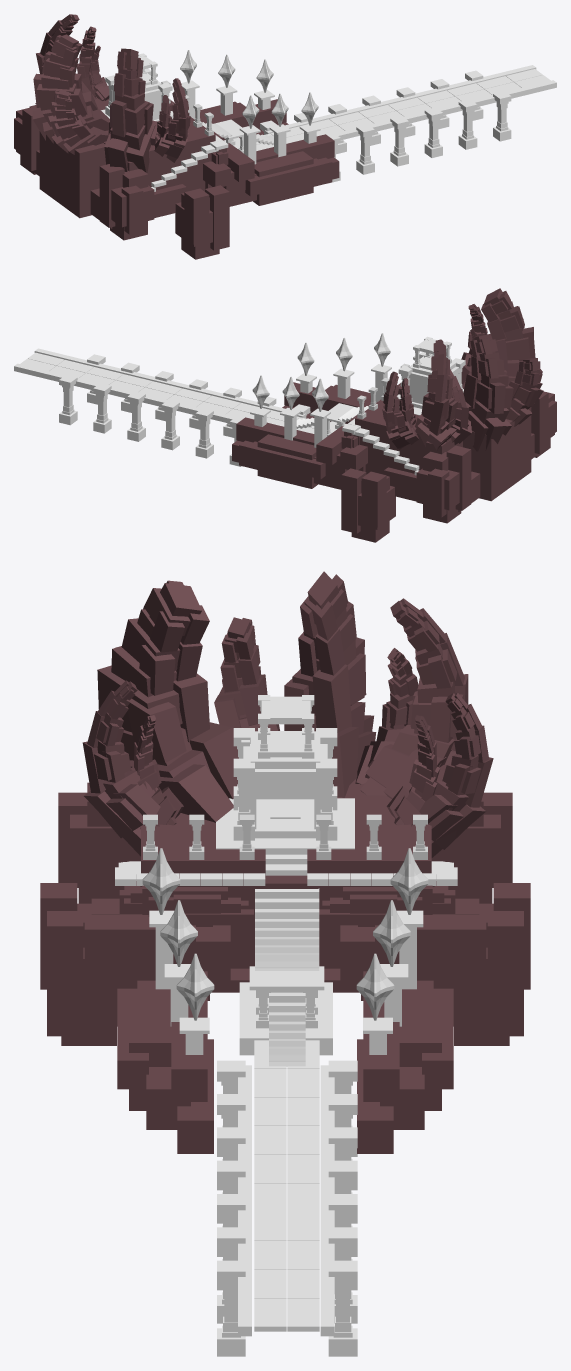
Rendered from TreasureRoom.fbx.
The picture shows the model from 3 angles, top to bottom: view 1: azimuth 30°, elevation 25°; view 2: azimuth 150°, elevation 25°; view 3: azimuth 270°, elevation 25°; orthographic projection. The views are drawn at different scales.
Visible parts, largest first — view 1: island, curved rock pillars, path, Cube.009, Cube.004, Cube.037, Cube.002, Cube.029, Cube.031, Cube.023, Cube.021; view 2: island, curved rock pillars, path, Cube.004, Cube.037, Cube.009, Cube.002, Cube.021, Cube.023, Cube.031, Cube.029, Cube.003; view 3: island, curved rock pillars, path, Cube.004, Cube.009, Cube.037, Cube.002, Cube.057, Cube.012, Cube.051, Cube.052, Cube.042 (+8 smaller).
Part boxes in pixels (x1=…): island: x1=14, y1=98, x2=254, y2=259; curved rock pillars: x1=32, y1=14, x2=190, y2=172; path: x1=202, y1=65, x2=556, y2=183; Cube.009: x1=245, y1=134, x2=339, y2=205; Cube.004: x1=195, y1=99, x2=288, y2=140; Cube.037: x1=105, y1=53, x2=172, y2=121; Cube.002: x1=151, y1=135, x2=228, y2=191; Cube.029: x1=239, y1=125, x2=260, y2=164; Cube.031: x1=269, y1=124, x2=290, y2=157; Cube.023: x1=216, y1=85, x2=237, y2=115; Cube.021: x1=181, y1=80, x2=199, y2=119; island: x1=316, y1=383, x2=556, y2=542; curved rock pillars: x1=382, y1=288, x2=543, y2=451; path: x1=14, y1=348, x2=368, y2=466; Cube.004: x1=232, y1=417, x2=341, y2=489; Cube.037: x1=398, y1=336, x2=465, y2=408; Cube.009: x1=282, y1=382, x2=370, y2=423; Cube.002: x1=342, y1=418, x2=419, y2=475; Cube.021: x1=310, y1=408, x2=330, y2=447; Cube.023: x1=280, y1=407, x2=300, y2=440; Cube.031: x1=333, y1=368, x2=354, y2=398; Cube.029: x1=371, y1=364, x2=391, y2=402; Cube.003: x1=409, y1=378, x2=428, y2=404; island: x1=40, y1=770, x2=530, y2=1045; curved rock pillars: x1=82, y1=571, x2=493, y2=857; path: x1=217, y1=888, x2=357, y2=1356; Cube.004: x1=357, y1=971, x2=453, y2=1153; Cube.009: x1=117, y1=971, x2=213, y2=1153; Cube.037: x1=233, y1=695, x2=337, y2=840; Cube.002: x1=115, y1=861, x2=457, y2=885; Cube.057: x1=216, y1=798, x2=354, y2=854; Cube.012: x1=119, y1=885, x2=455, y2=914; Cube.051: x1=356, y1=953, x2=394, y2=1020; Cube.052: x1=176, y1=953, x2=214, y2=1020; Cube.042: x1=390, y1=848, x2=428, y2=914.
Size of the model in its own units: 4312 by 1640 by 1812.
